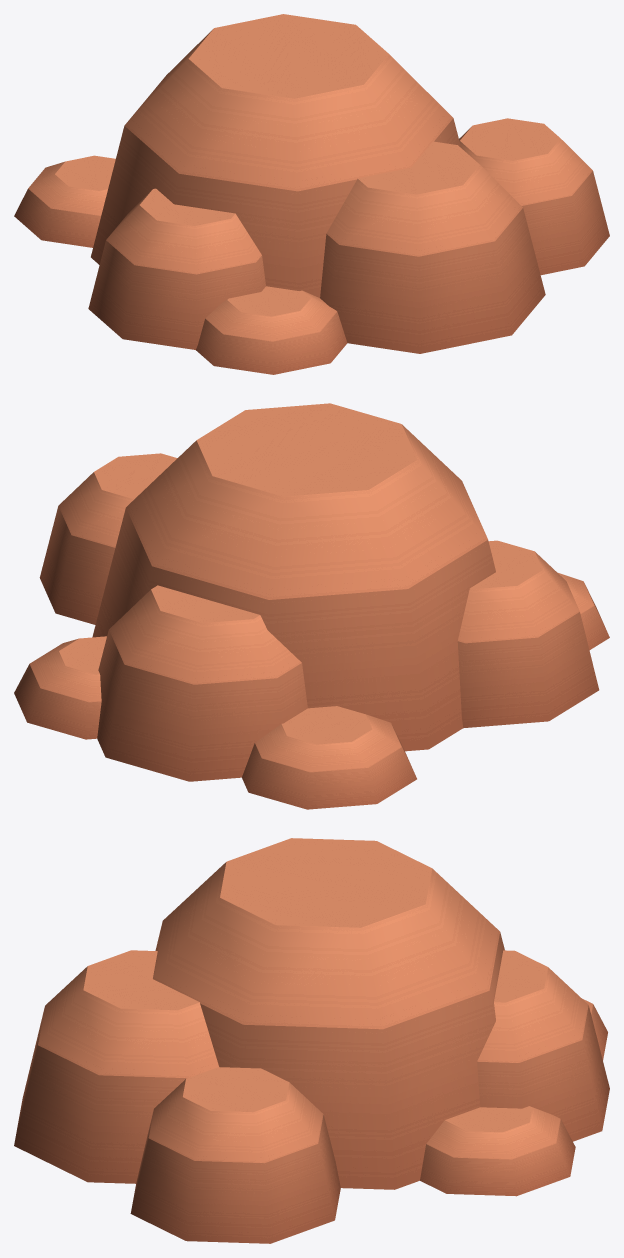
File: cargo-pile-b.glb
3 views of the same model, one above another, from view 1: azimuth 30°, elevation 25°; view 2: azimuth 150°, elevation 25°; view 3: azimuth 270°, elevation 25° (orthographic). The views are drawn at different scales.
Parts seen in each view (by area): view 1: cargo-pile-b; view 2: cargo-pile-b; view 3: cargo-pile-b.
Boxes of the visible parts, bbox=[...] form: cargo-pile-b: bbox=[14, 14, 609, 374]; cargo-pile-b: bbox=[14, 403, 609, 809]; cargo-pile-b: bbox=[14, 838, 609, 1243].
Size of the model in its own units: 3.05 by 1.2 by 2.97.
1 material, 1 textured.
